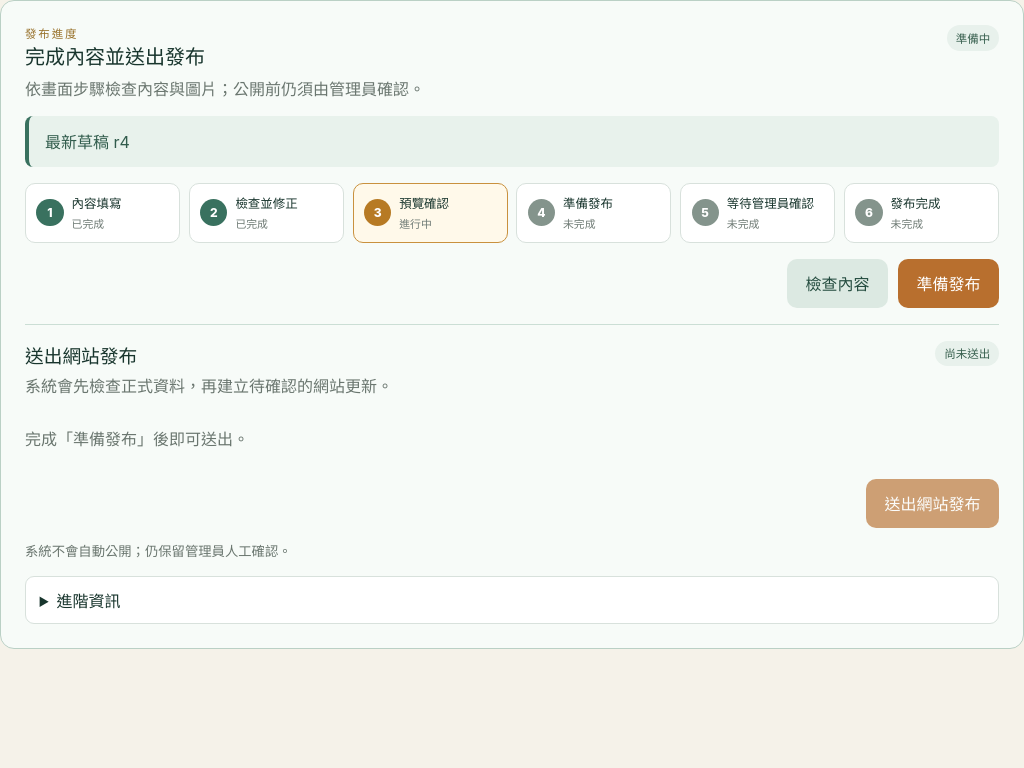
Scenario: 檢查失敗時不建立快照或準備圖片
The image size is (1024, 768).
Step 1. Click the button "準備發布" → (949, 283), box [898,259,999,308]
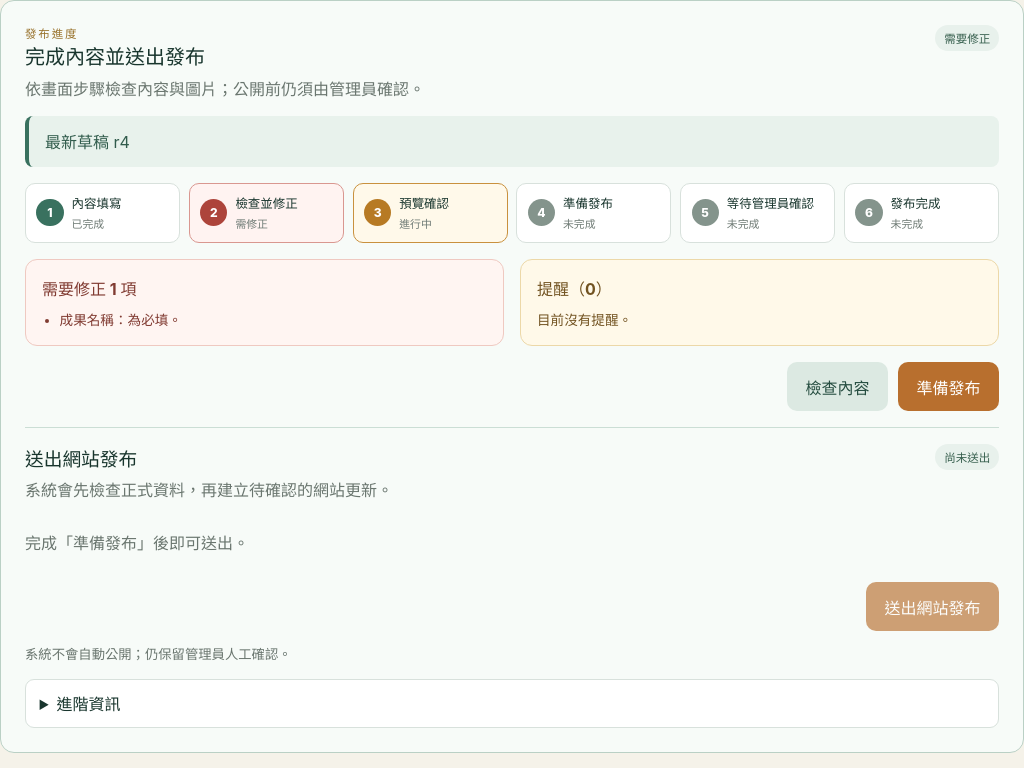
Expected: the text "成果名稱" is shown, [60,312,114,328]
